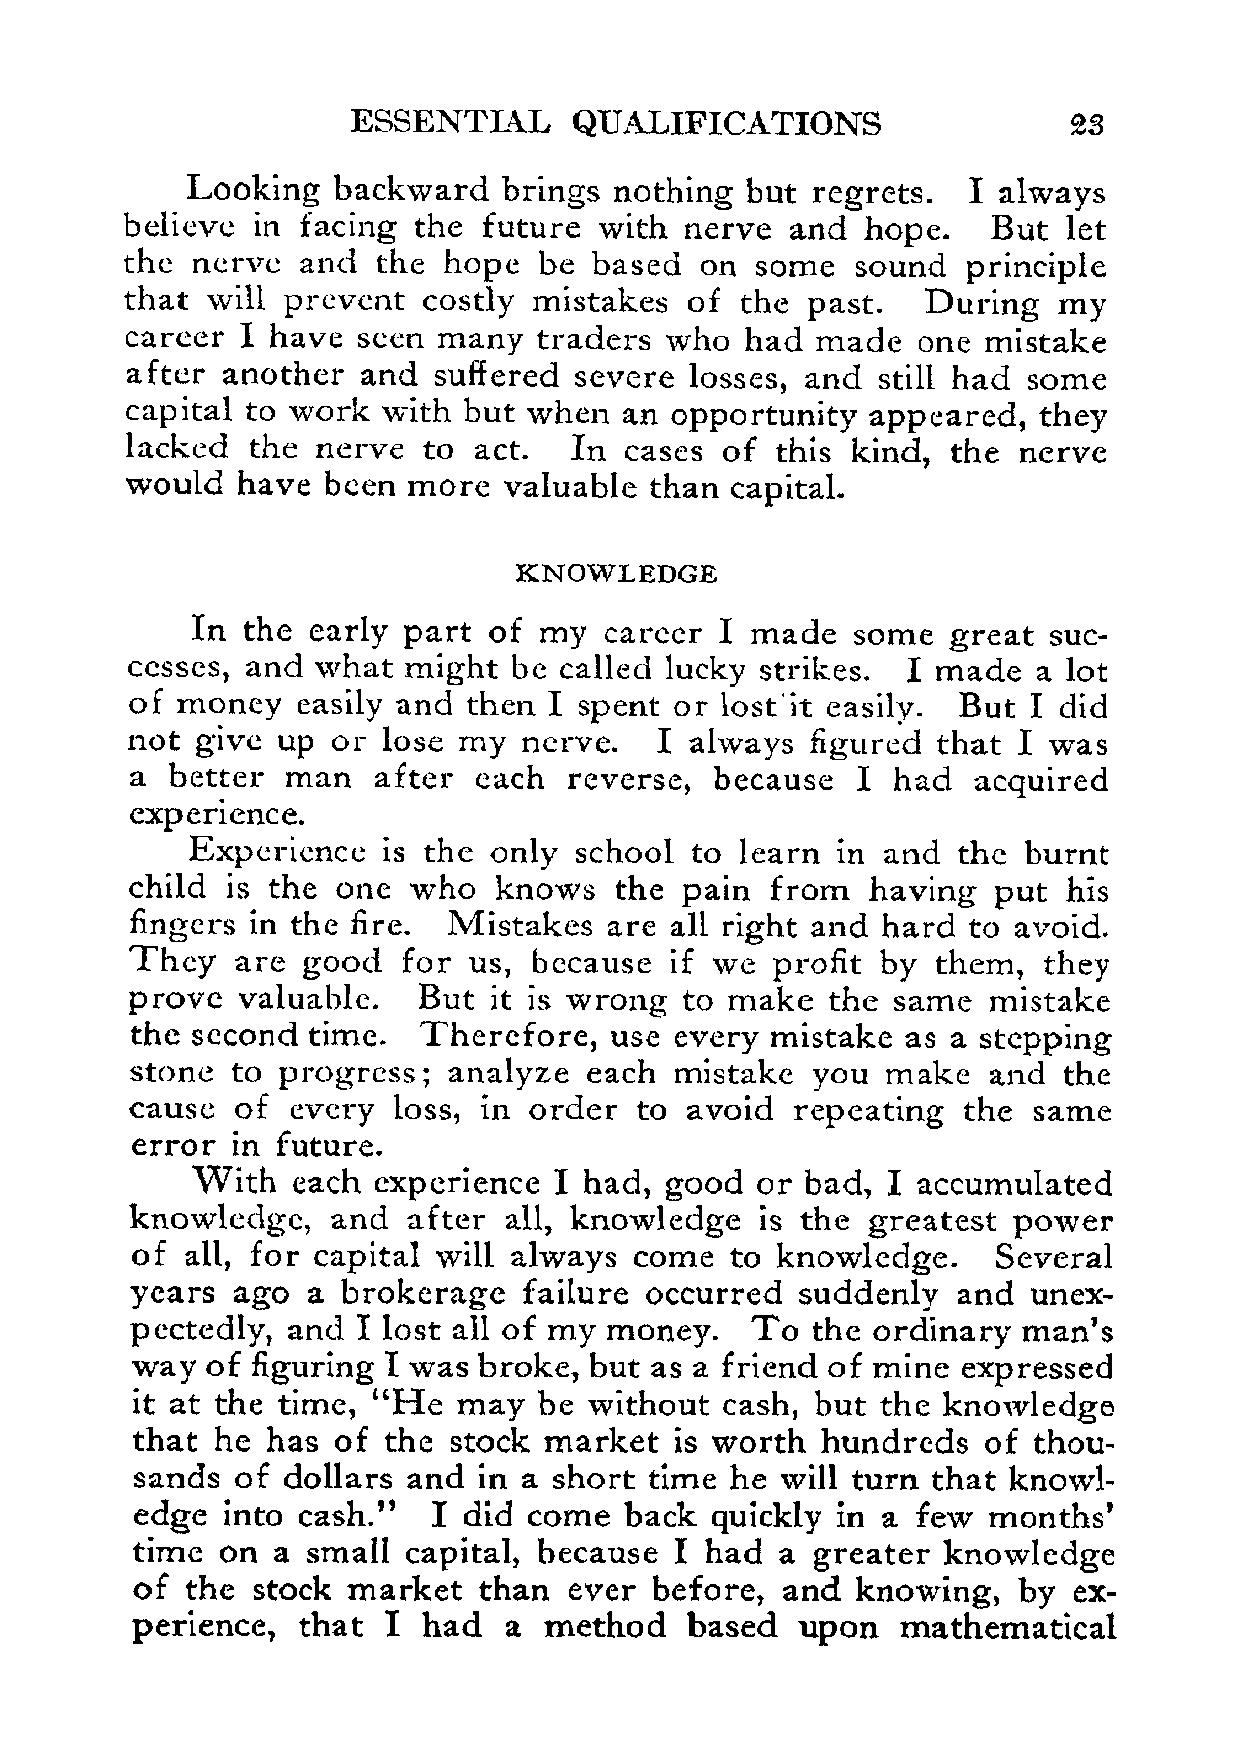chapter: (513, 556, 721, 586)
content: (119, 609, 1121, 1648), (117, 168, 1113, 509)
content_chapter: (344, 102, 882, 137)
content_pagenumber: (1067, 107, 1107, 138)
